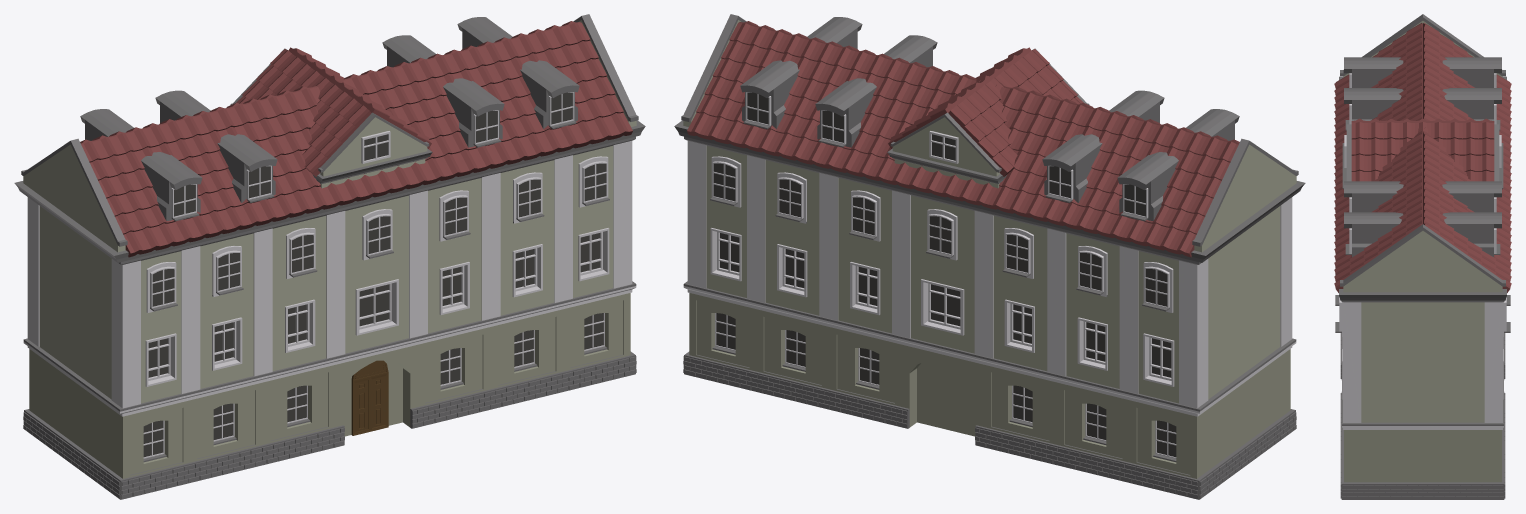
Rendered from pp-townhouse.glb.
The picture shows the model from 3 angles, left to right: view 1: azimuth 30°, elevation 25°; view 2: azimuth 150°, elevation 25°; view 3: azimuth 270°, elevation 25°; orthographic projection. The views are drawn at different scales.
Visible parts, largest first — view 1: Building1_Large; view 2: Building1_Large; view 3: Building1_Large.
Part boxes in pixels (<box>): Building1_Large: <box>14,14,645,499</box>; Building1_Large: <box>674,14,1305,499</box>; Building1_Large: <box>1334,14,1511,499</box>.
Size of the model in its own units: 7.99 by 4.67 by 2.74.
1 material, 1 textured.
